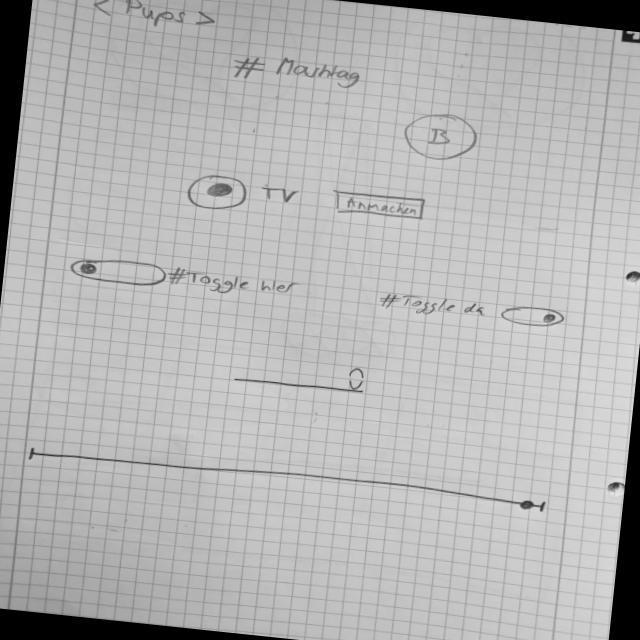button: (333, 187, 429, 223)
icon-button: (402, 110, 481, 166)
label: (228, 50, 365, 93), (167, 266, 304, 304), (379, 289, 491, 324)
link: (90, 1, 222, 35)
number-input: (229, 352, 370, 398)
radio: (184, 171, 302, 220)
slider: (24, 441, 552, 518)
toggle: (69, 255, 169, 290), (499, 302, 569, 332)
